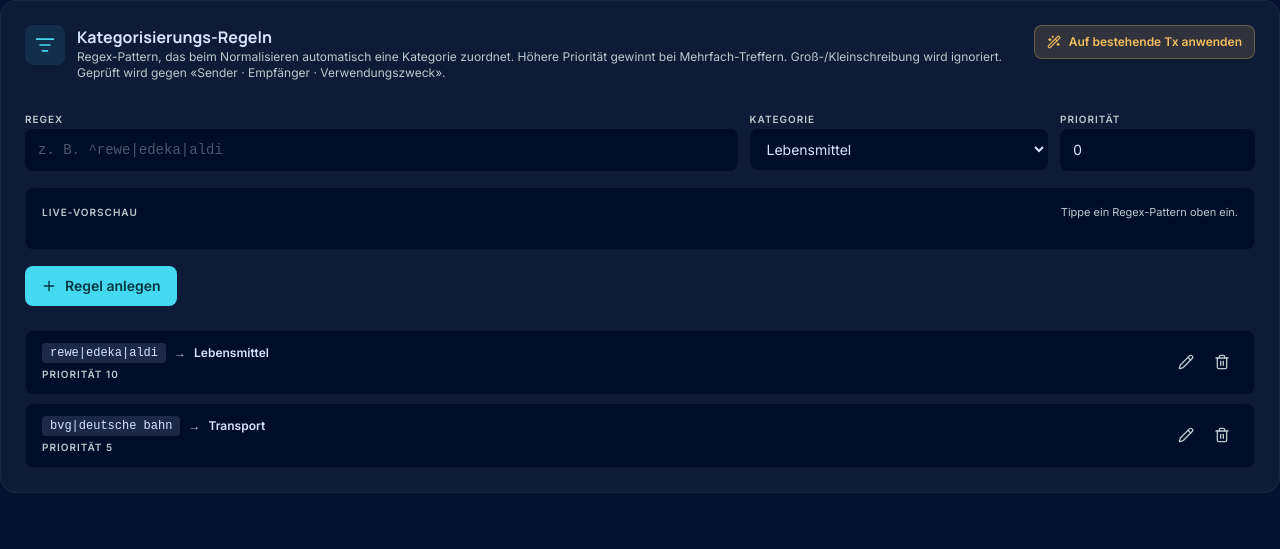
Test: RulesSection › switches to edit mode when Edit is clicked and prefills the form
Click the button named "Regel #1 bearbeiten" at (1186, 362), box [1170, 346, 1202, 378]
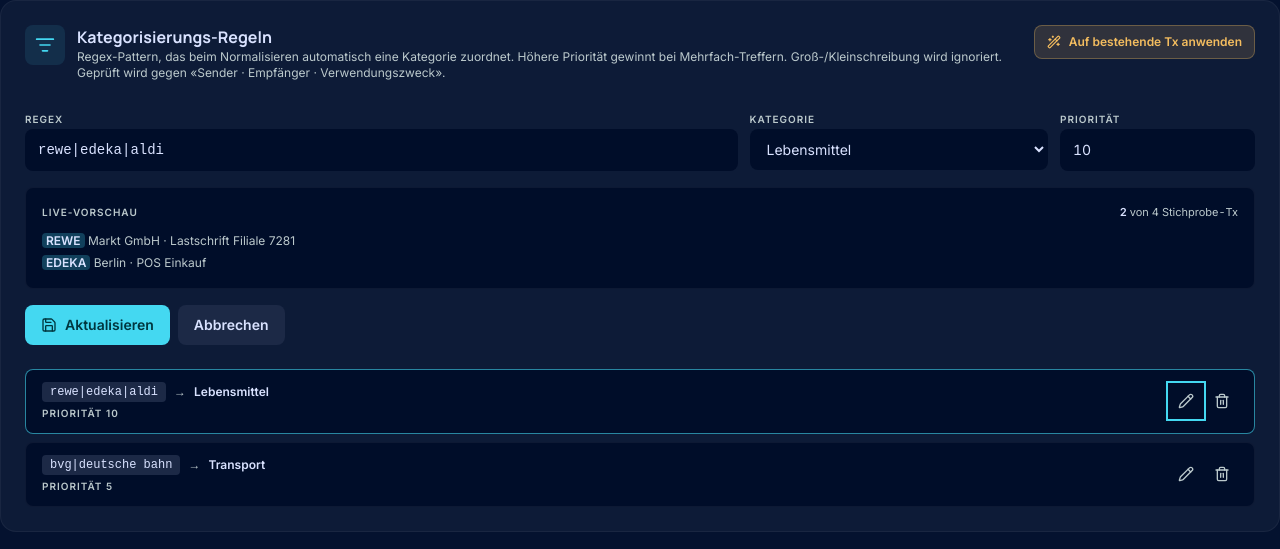
expect the field labelled "Regex" holds "rewe|edeka|aldi": met, box [25, 129, 738, 171]
expect the button "Aktualisieren" is shown: met, box [25, 304, 170, 344]
expect the button "Abbrechen" is shown: met, box [178, 304, 285, 344]
